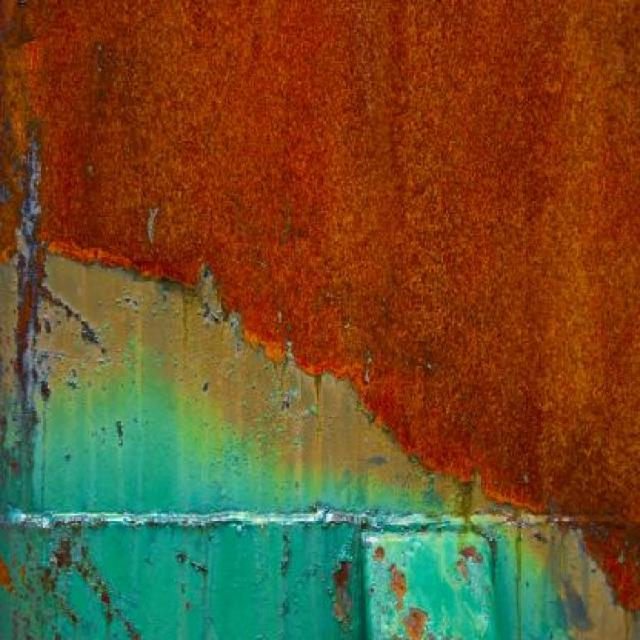corrosion: (4, 0, 640, 611)
